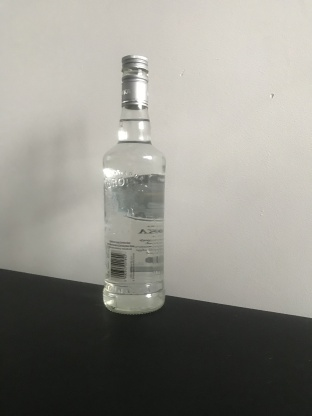nakretka: (120, 53, 149, 110)
